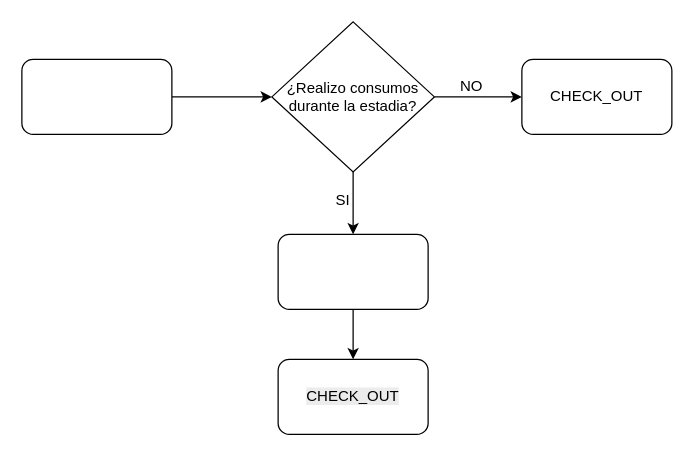
The diagram is 694 pixels wide and 456 high, and some of its shapes have lost their labels. The shapes that lost their labels are listed below. From the top down, each one's centre as x and y in pixels, then its label:
At [96,96]: "CHECK_IN".
At [352,271]: "Registrar servicio (servicios_estadias)".
